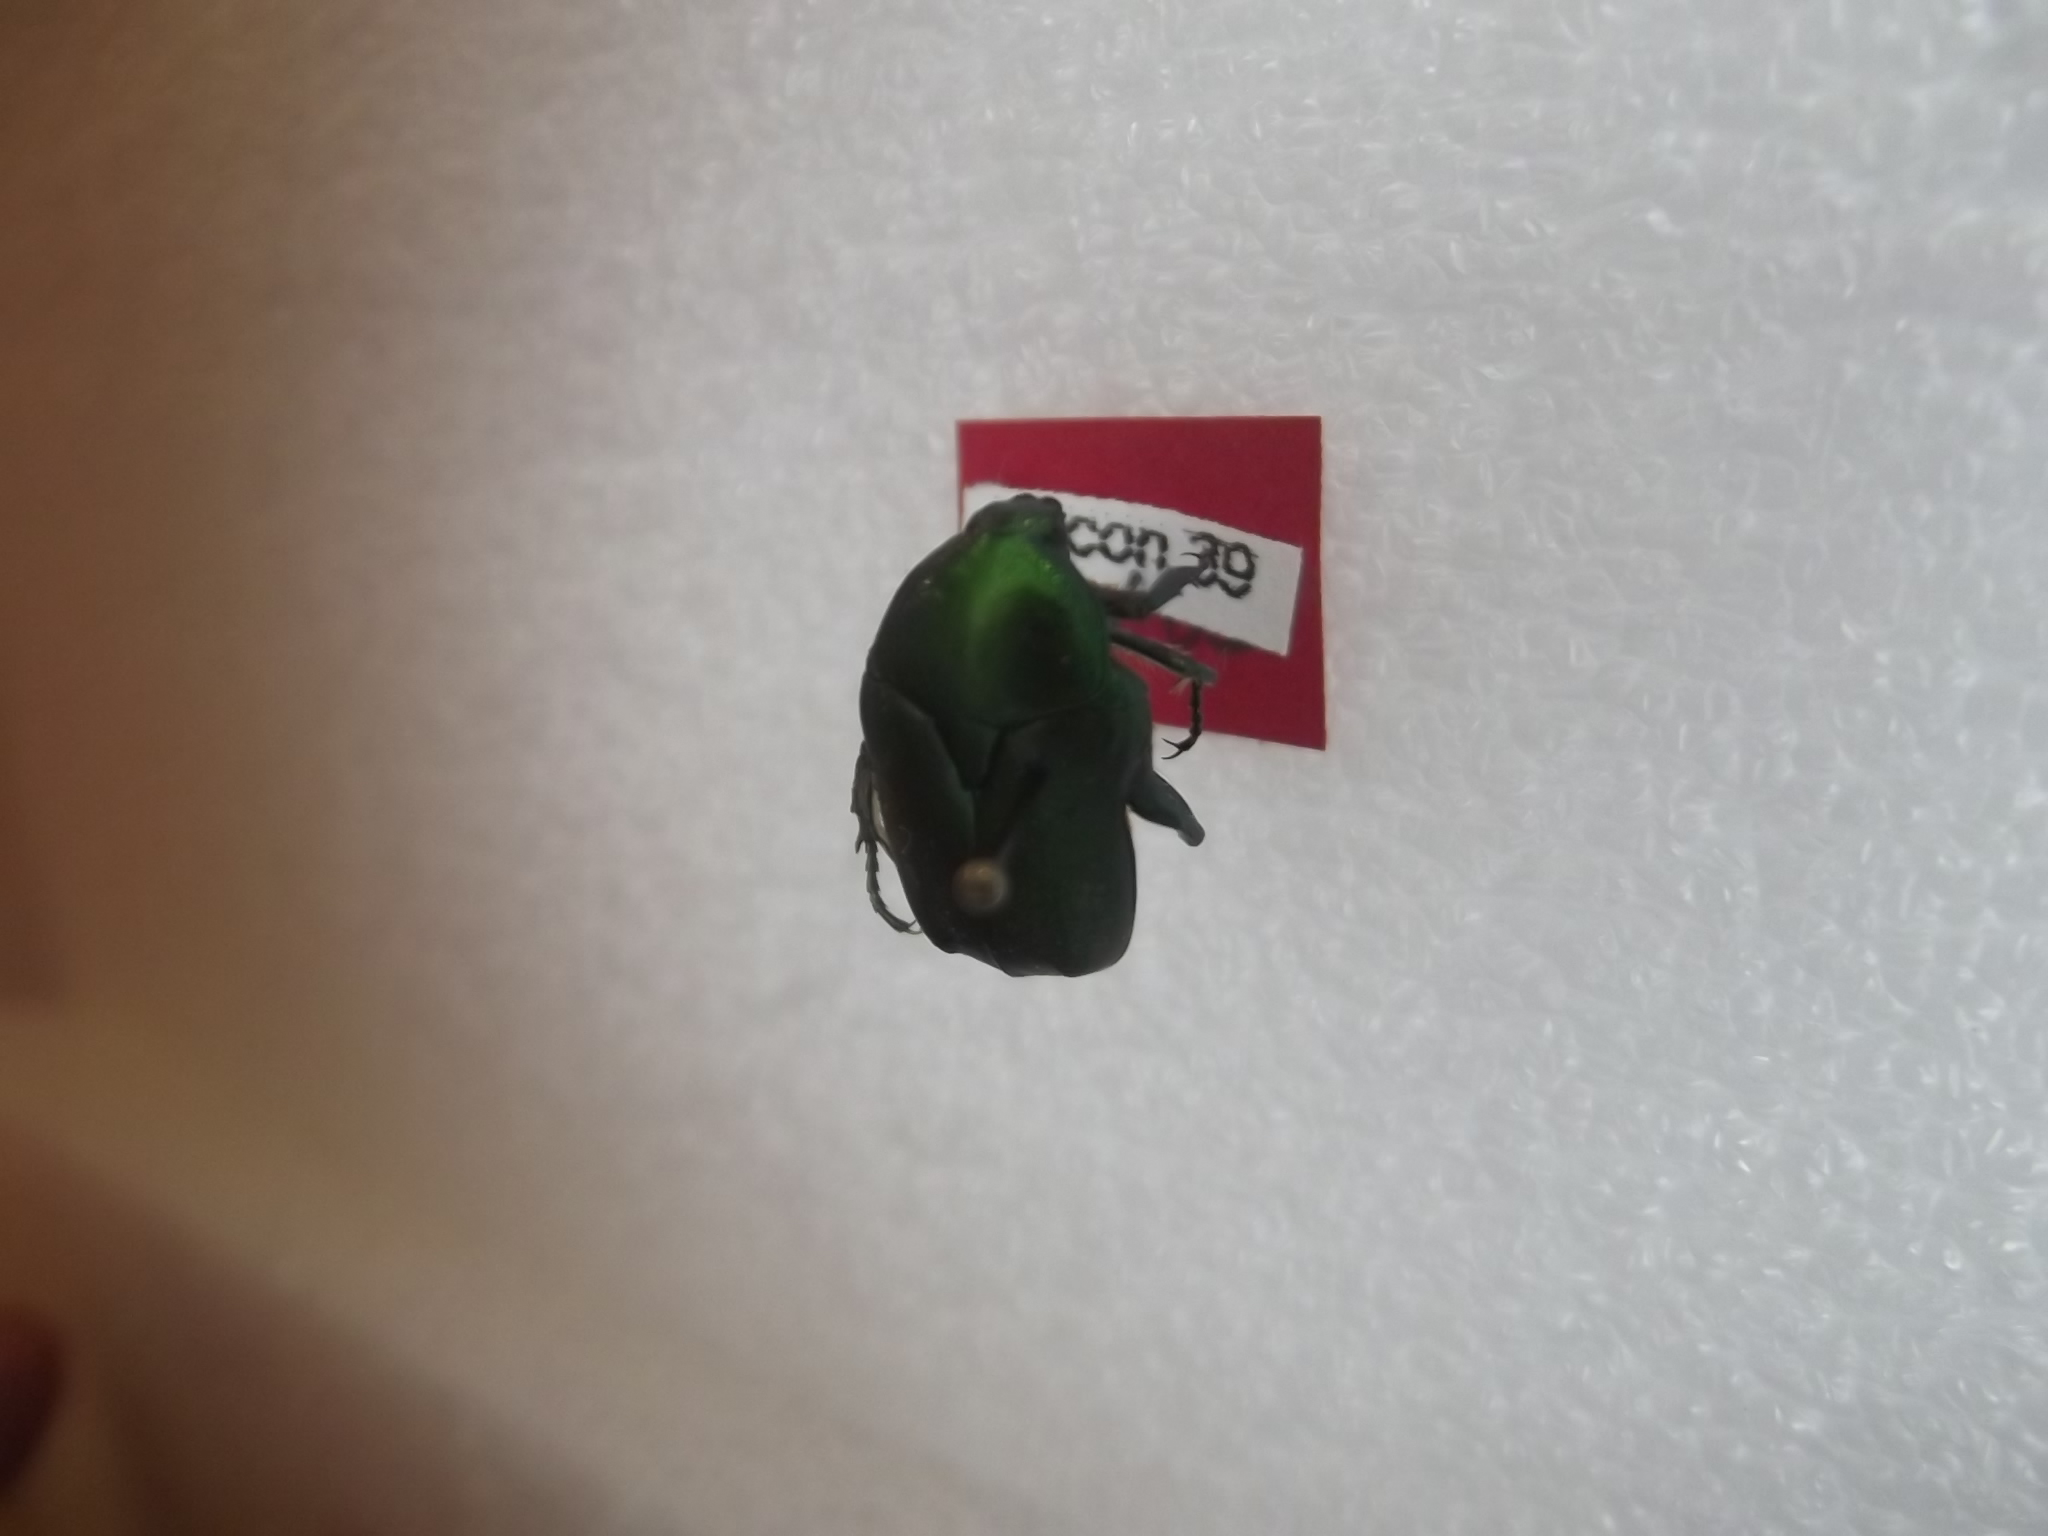Protaetia_ungarica_americana: (822, 466, 1247, 995)
